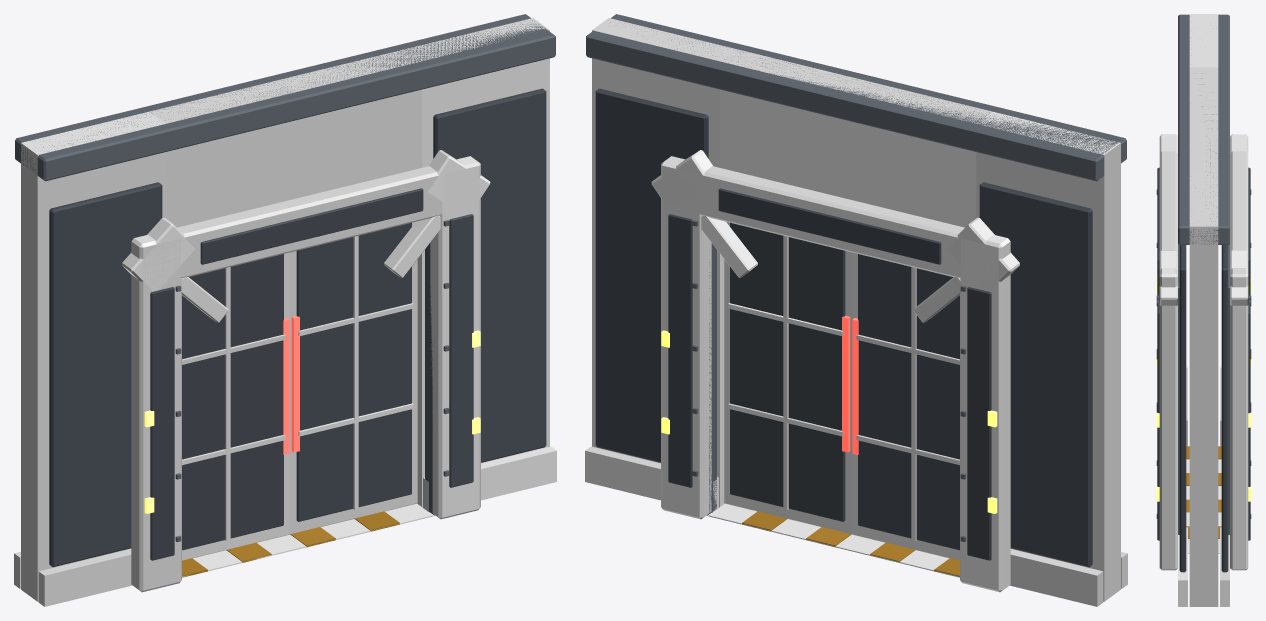
The model's file is Door_Sliding.fbx.
The picture shows the model from 3 angles, left to right: view 1: azimuth 30°, elevation 25°; view 2: azimuth 150°, elevation 25°; view 3: azimuth 270°, elevation 25°; orthographic projection. The views are drawn at different scales.
Visible parts, largest first — view 1: Door_Sliding, Door_Sliding_Leaf_R, Door_Sliding_Leaf_L; view 2: Door_Sliding, Door_Sliding_Leaf_R, Door_Sliding_Leaf_L; view 3: Door_Sliding.
Part boxes in pixels (<box>): Door_Sliding: <box>14,14,556,606</box>; Door_Sliding_Leaf_R: <box>289,222,417,534</box>; Door_Sliding_Leaf_L: <box>182,253,289,560</box>; Door_Sliding: <box>585,14,1127,606</box>; Door_Sliding_Leaf_R: <box>724,222,852,534</box>; Door_Sliding_Leaf_L: <box>852,253,959,560</box>; Door_Sliding: <box>1156,14,1251,606</box>.
Bounding box in the file's own units: 6 × 5 × 1.14.
